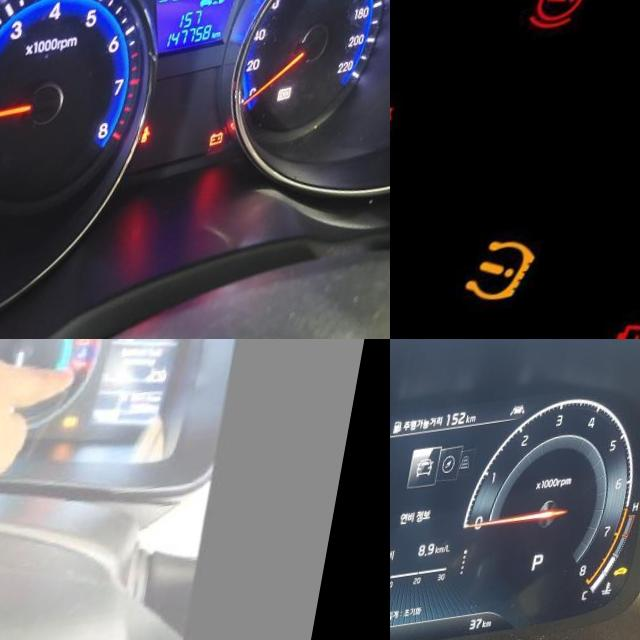High Engine Coolant Temperature: (85, 351, 95, 363)
